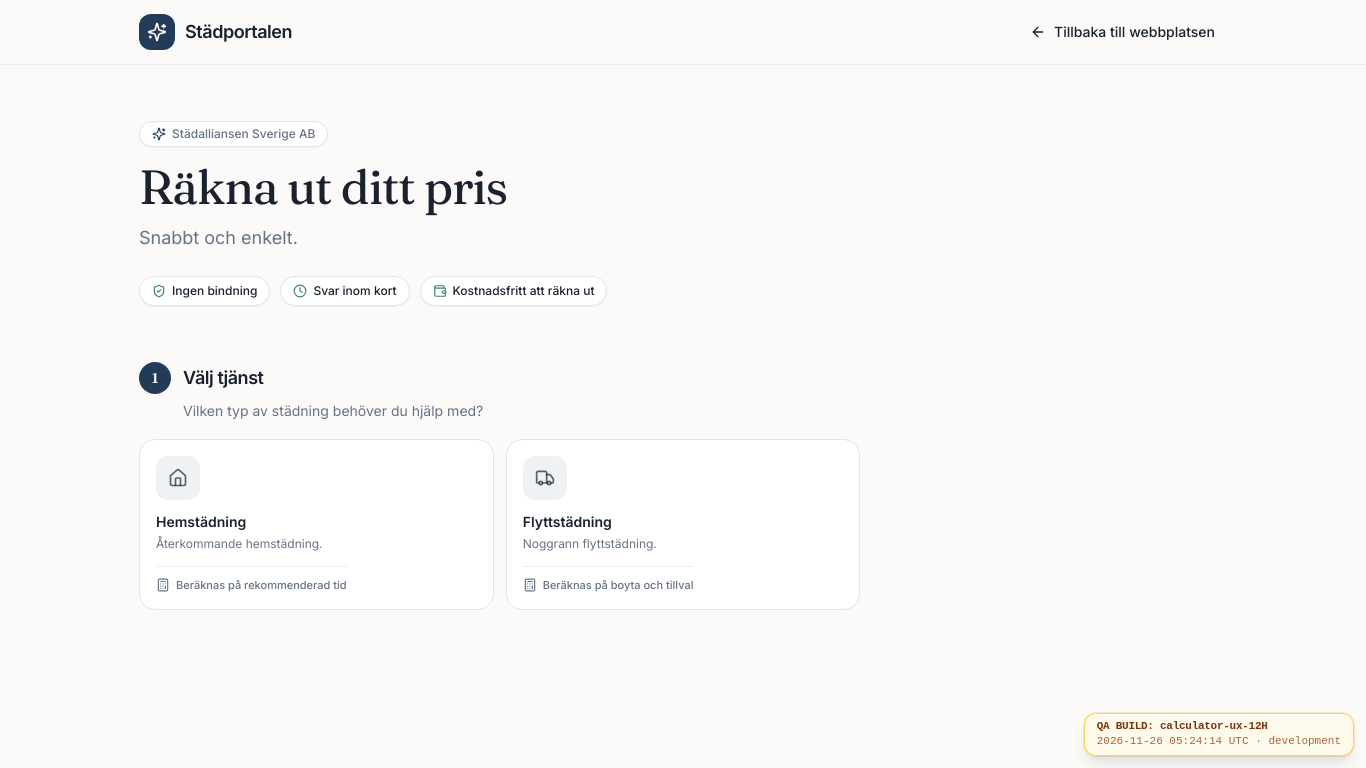
PriceCalculator — plan card hourly-rate visibility (Slice 12J) › hides per-plan hourly rates in time_adjustment_per_visit mode (names stay)
What coordinates should you click on to do the following:
click the button "Hemstädning"
I would click on:
 (178, 478)
Its box is [139,439,494,610].
(page scrolled)
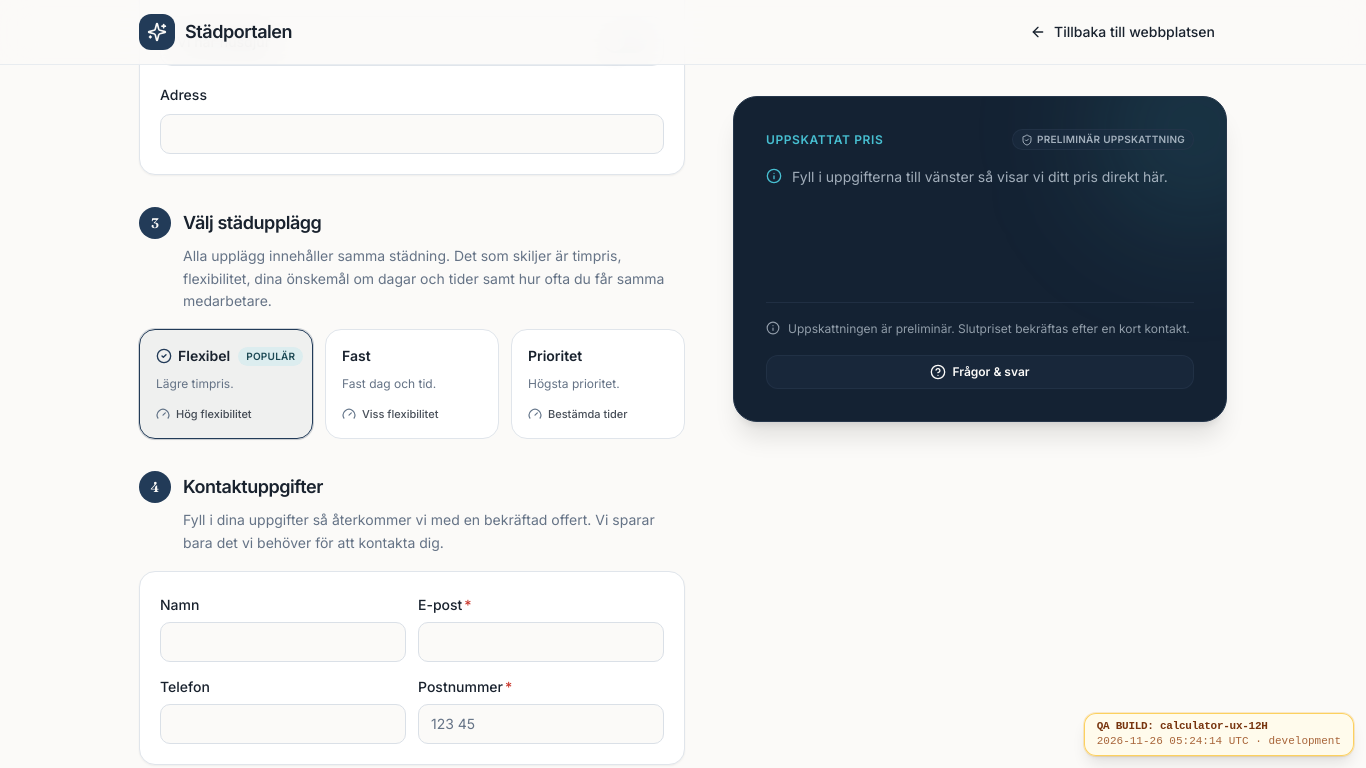
expect the heading "Välj städupplägg" is shown: met, box [183,209,321,237]
expect the button "Flexibel Populär Lägre timpris. Hög flexibilitet" is shown: met, box [139,329,313,439]
expect the button "Prioritet Högsta prioritet. Bestämda tider" is shown: met, box [511,329,685,439]
